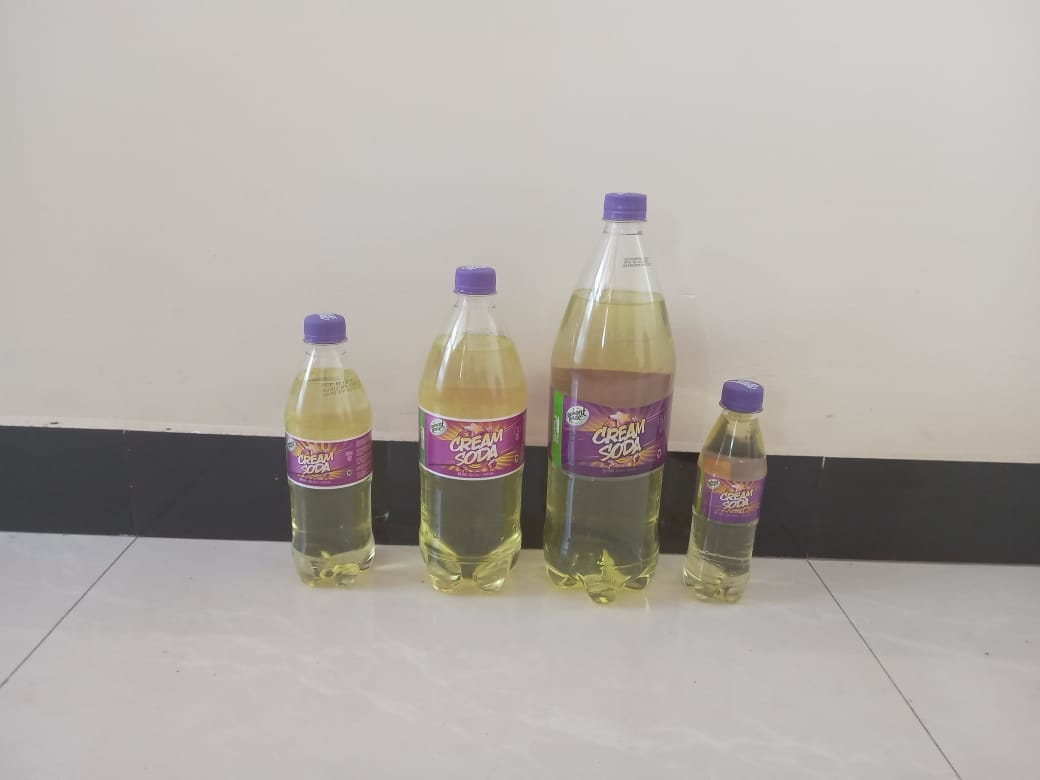L: (543, 189, 677, 607)
M: (413, 269, 531, 593)
S: (281, 315, 379, 589)
Xs: (684, 379, 771, 609)
